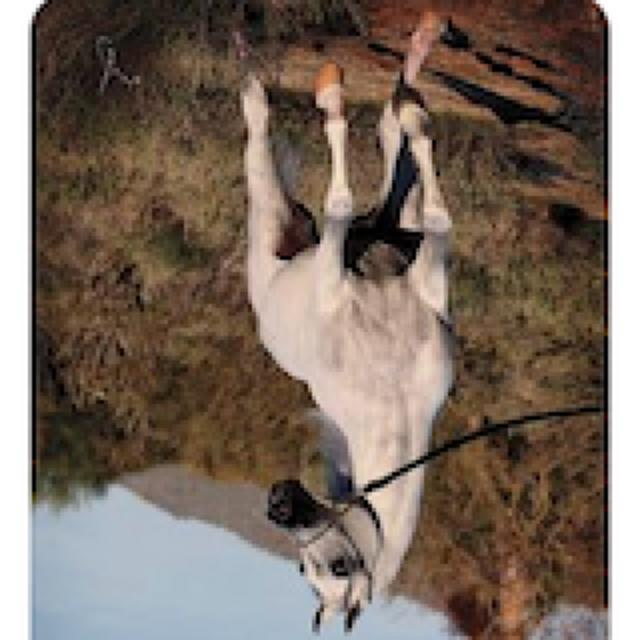Horse: (224, 8, 464, 640)
